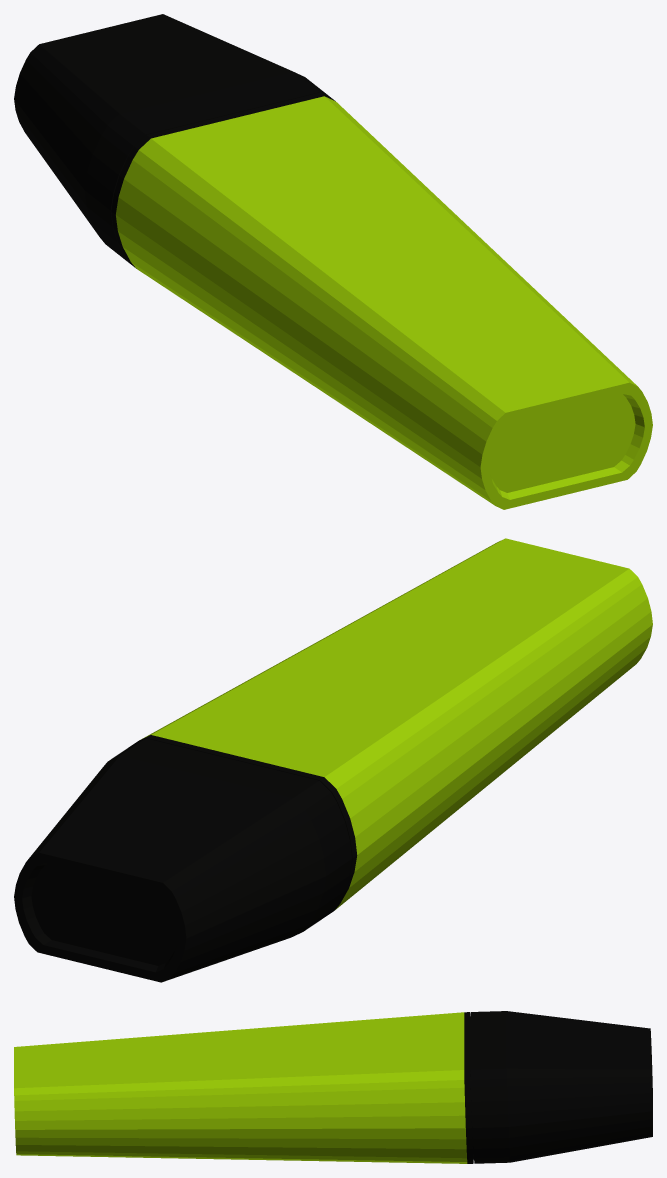
File: textMarker.obj
The picture shows the model from 3 angles, top to bottom: view 1: azimuth 30°, elevation 25°; view 2: azimuth 150°, elevation 25°; view 3: azimuth 270°, elevation 25°; orthographic projection. The views are drawn at different scales.
Visible parts, largest first — view 1: Cube_Cube.001, cap_Cube.004; view 2: Cube_Cube.001, cap_Cube.004; view 3: Cube_Cube.001, cap_Cube.004.
Boxes of the visible parts, box(x1,y1,x2,y2) form: Cube_Cube.001: box(111, 92, 652, 509); cap_Cube.004: box(14, 14, 330, 264); Cube_Cube.001: box(134, 538, 652, 913); cap_Cube.004: box(14, 738, 351, 982); Cube_Cube.001: box(14, 1012, 473, 1163); cap_Cube.004: box(471, 1011, 652, 1163).
Size of the model in its own units: 3.08 by 1.7 by 10.35.
